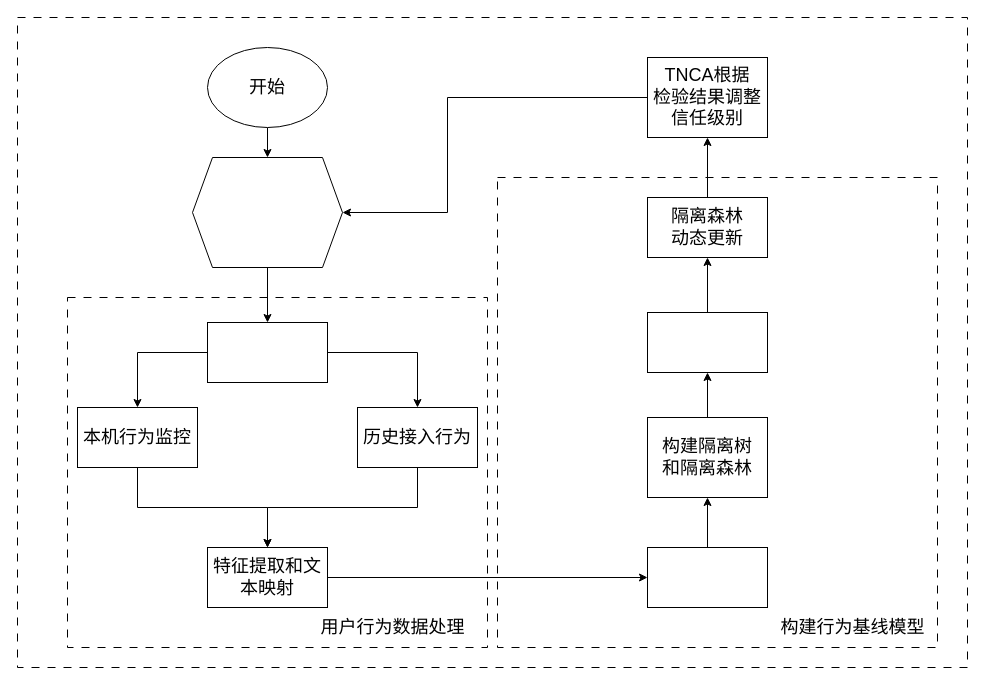
Some shapes in this 985 by 685 pixel diagram are drawn without their labels. Each missing label, with the box of its shape:
IMC收集用户行为数据: (206, 322, 328, 382)
快速离群点检测: (646, 546, 768, 608)
用户信任值修正: (646, 312, 768, 372)
通过第三章 可信接入检验: (192, 156, 342, 268)
